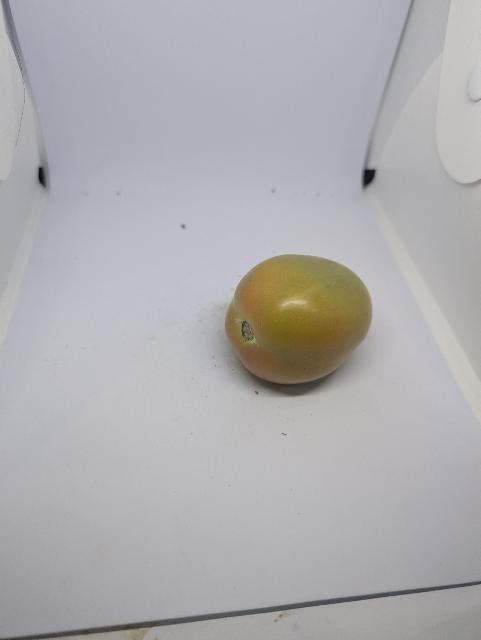breaker: (222, 250, 378, 399)
